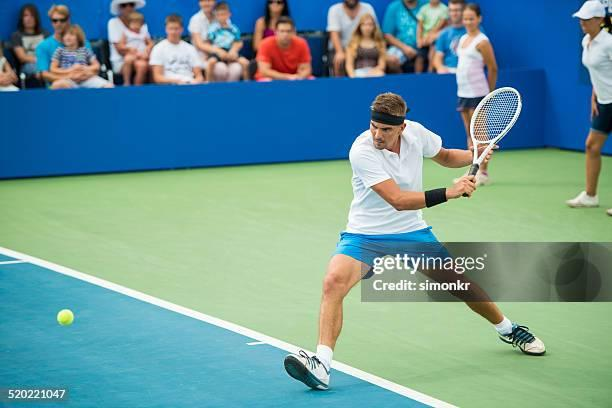ball_tennis: (56, 309, 75, 327)
